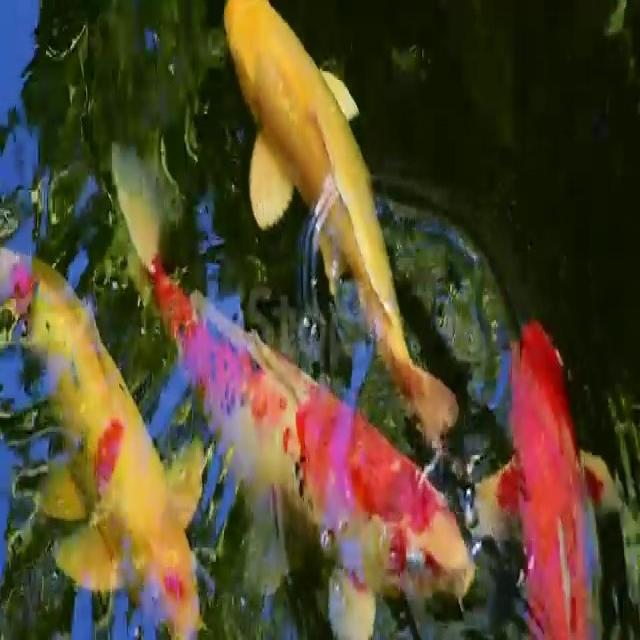fish: (225, 0, 460, 444), (0, 231, 212, 640), (208, 317, 477, 637), (489, 314, 619, 640)
